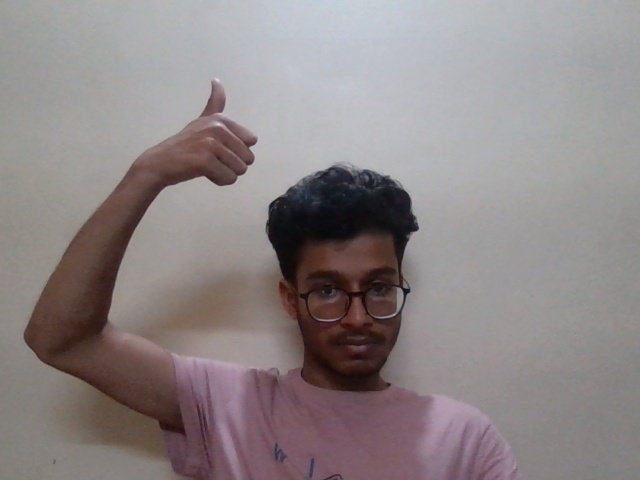yes: (127, 73, 260, 207)
